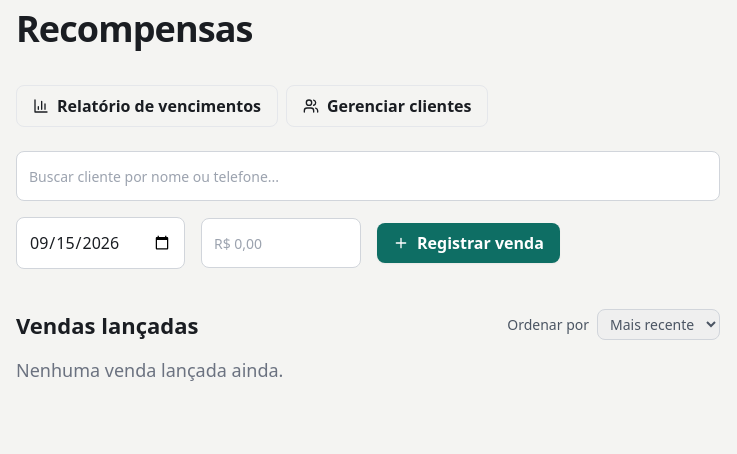
Test: RecompensasPage › shows the calculated reward live as the sale value is typed
Check: the text "Nenhuma venda lançada ainda." is shown, box x1=16 y1=358 x2=283 y2=382
Type "10000" into the field named "Valor da venda" at [281, 243], box x1=201 y1=218 x2=361 y2=268
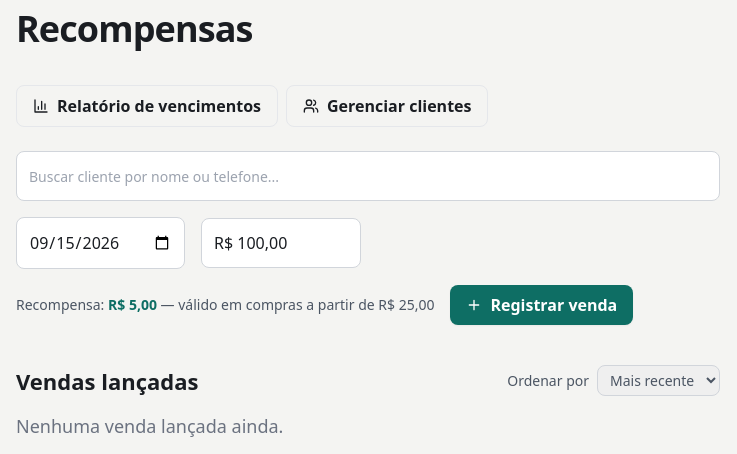
Check: the text "R$ 5,00" is shown, box x1=108 y1=295 x2=157 y2=314
Check: the text "Recompensa: R$ 5,00 — válido em compras a partir de R$ 25,00" is shown, box x1=16 y1=295 x2=434 y2=315
